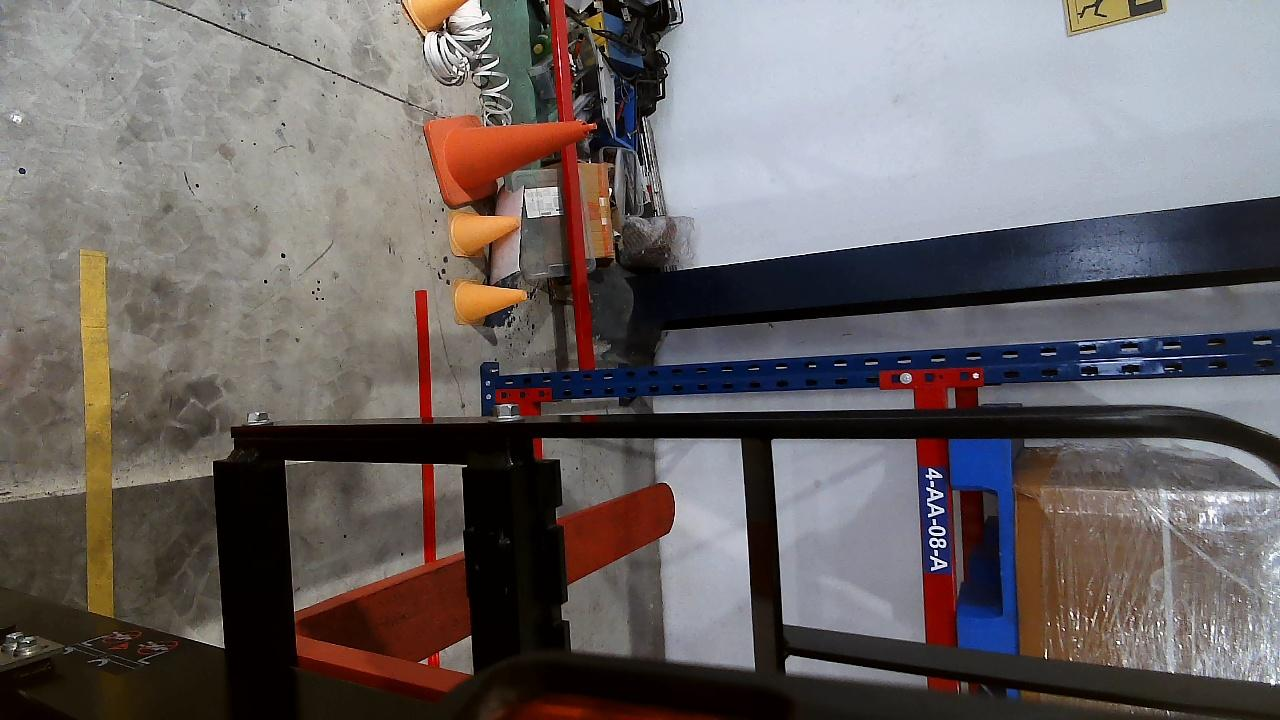h_rack: (909, 384, 960, 645)
red_line: (412, 288, 438, 562)
small_pallet: (947, 442, 1021, 653)
yellow_line: (79, 249, 113, 617)
